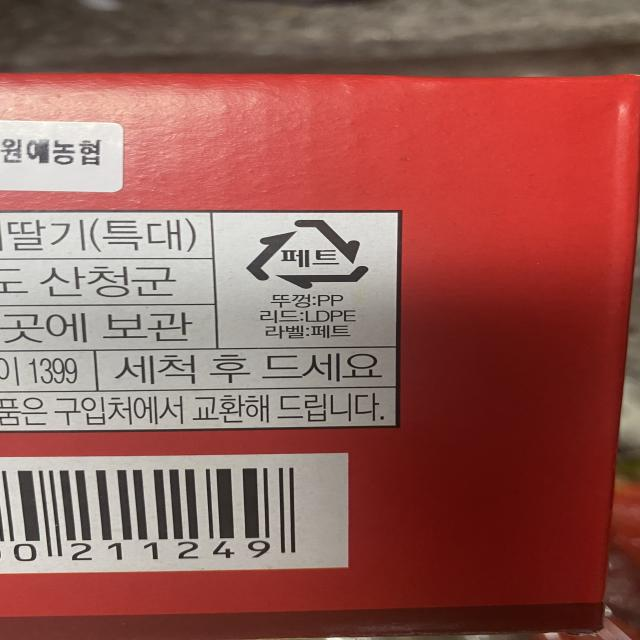PET: (238, 212, 380, 296)
